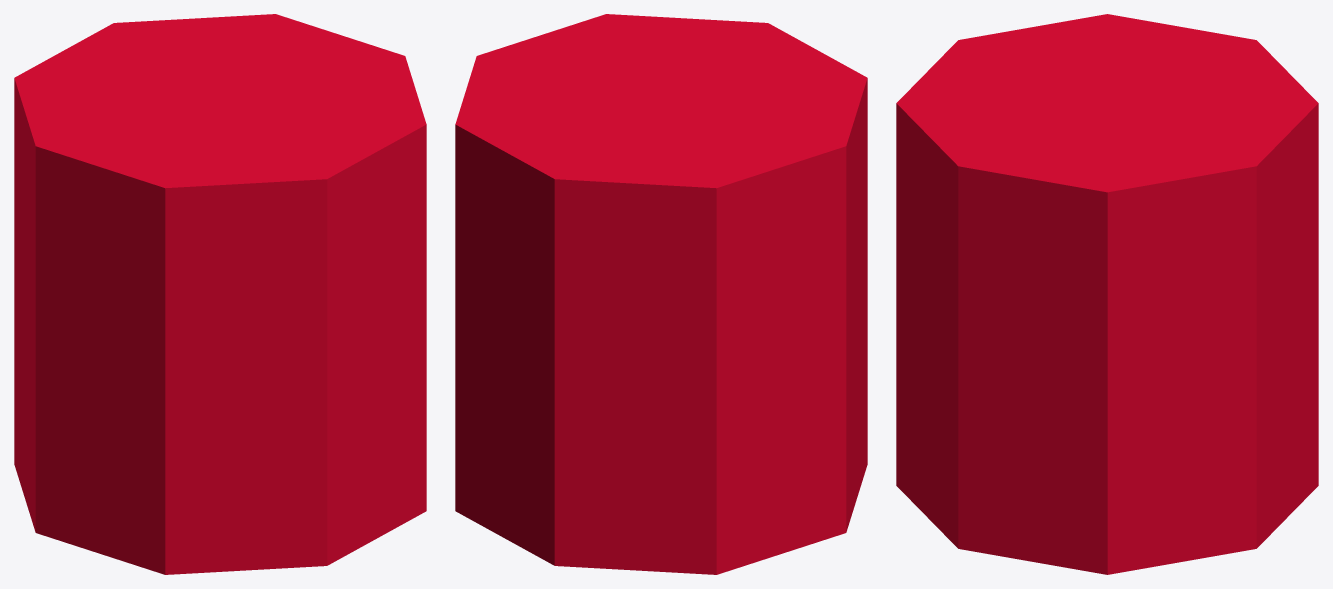
Rendered from paintCan.fbx.
3 renders of one model, left to right at view 1: azimuth 30°, elevation 25°; view 2: azimuth 150°, elevation 25°; view 3: azimuth 270°, elevation 25°, orthographic.
Parts seen in each view (by area): view 1: paintCan_geo; view 2: paintCan_geo; view 3: paintCan_geo.
Boxes of the visible parts, bbox=[...] form: paintCan_geo: bbox=[14, 14, 426, 574]; paintCan_geo: bbox=[455, 14, 867, 574]; paintCan_geo: bbox=[896, 14, 1318, 574].
Bounding box in the file's own units: 0.372 × 0.372 × 0.372.
